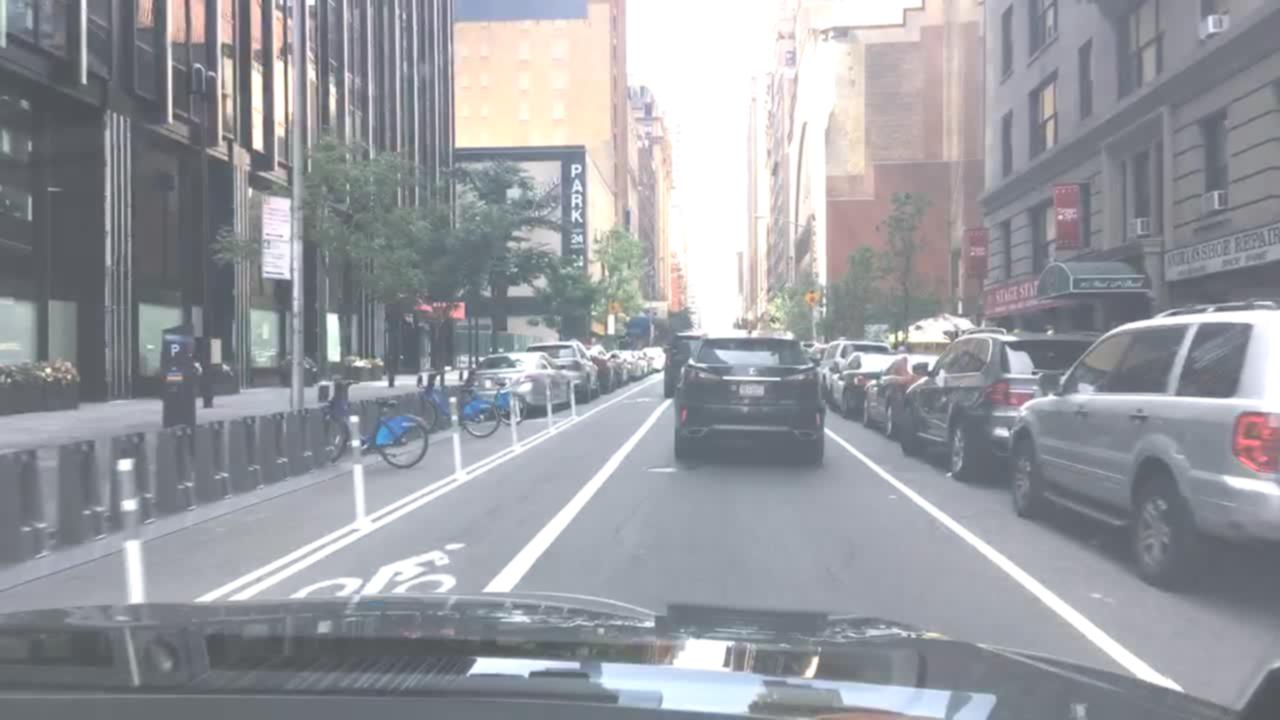lexus: (745, 363, 764, 379)
